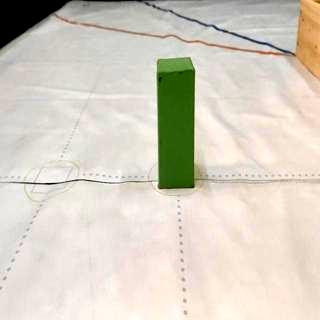greenbox: (157, 58, 195, 188)
